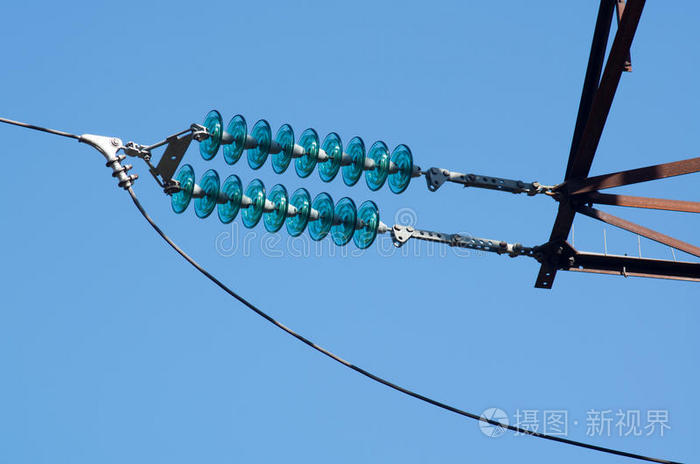insulator: (197, 109, 412, 193), (169, 164, 381, 249)
